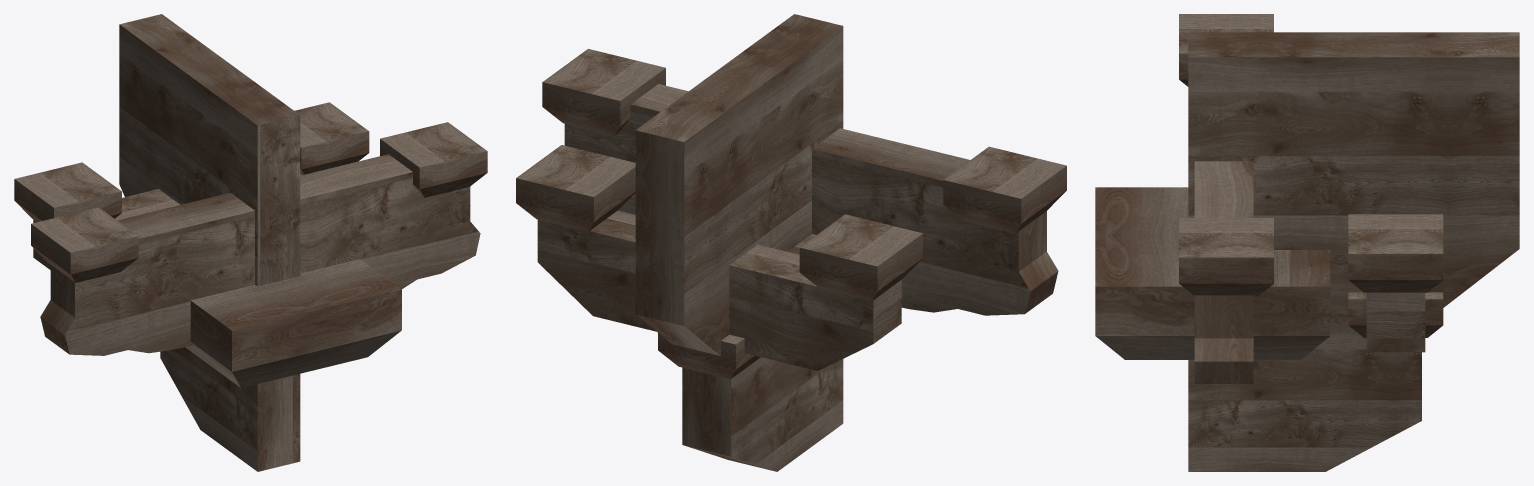
File: SM_Sun_Won_Gonpo_D.fbx
3 views of the same model, side by side, from view 1: azimuth 30°, elevation 25°; view 2: azimuth 150°, elevation 25°; view 3: azimuth 270°, elevation 25° (orthographic). The views are drawn at different scales.
Parts seen in each view (by area): view 1: SM_Sun_Won_Gonpo_D; view 2: SM_Sun_Won_Gonpo_D; view 3: SM_Sun_Won_Gonpo_D.
Boxes of the visible parts, <box> form: SM_Sun_Won_Gonpo_D: <box>14,14,487,471</box>; SM_Sun_Won_Gonpo_D: <box>516,14,1066,471</box>; SM_Sun_Won_Gonpo_D: <box>1095,14,1519,471</box>.
Size of the model in its own units: 98.19 by 77.95 by 72.23.
